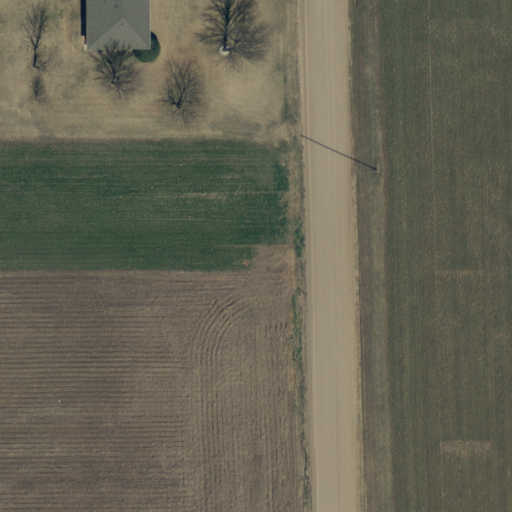DT: (356, 162, 386, 182)
